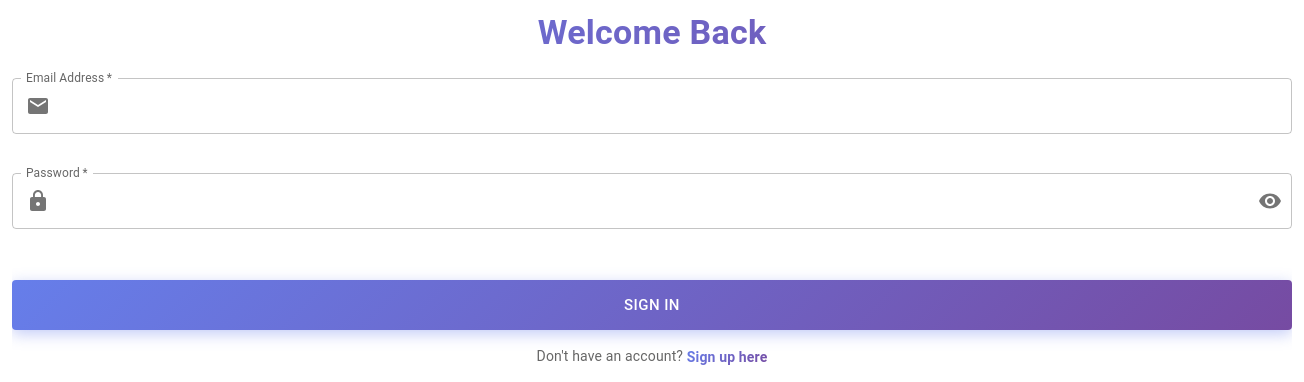
Test case: ModernLoginForm › Form Validation › should clear error when user starts typing
// Trigger error
Click the field labelled "Email Address *" at {"x": 675, "y": 106}, box [58, 78, 1292, 134]
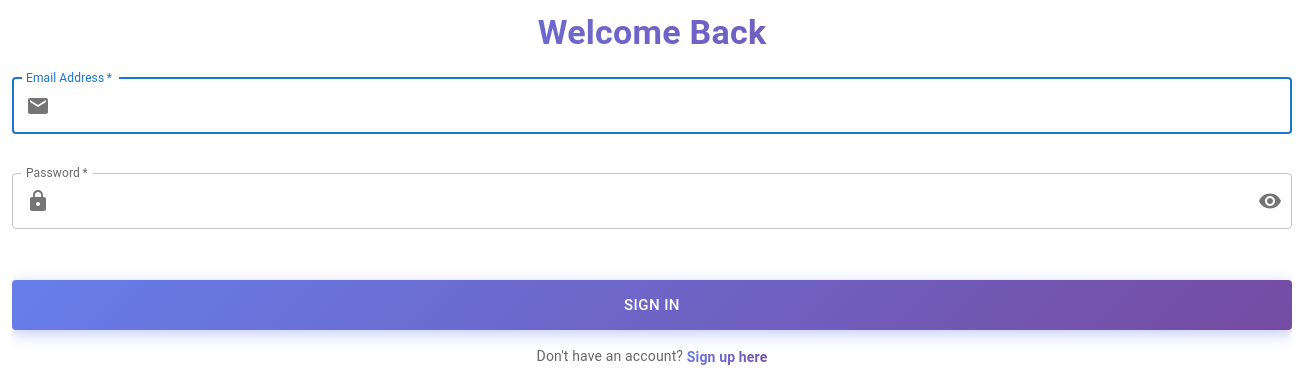
Press Tab
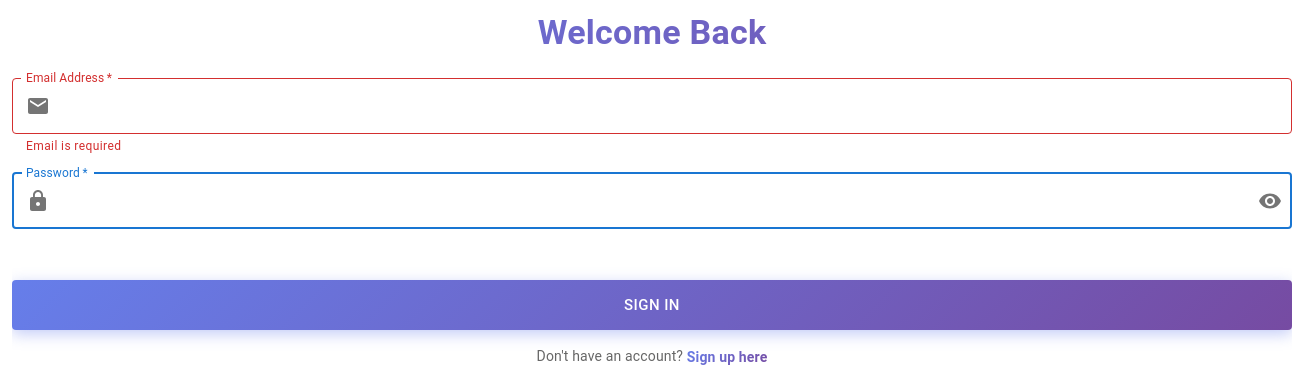
Expected: the text "Email is required" is shown, [26, 139, 121, 153]
// Start typing
Type "test@example.com" into the field labelled "Email Address *" at {"x": 675, "y": 106}, box [58, 78, 1292, 134]
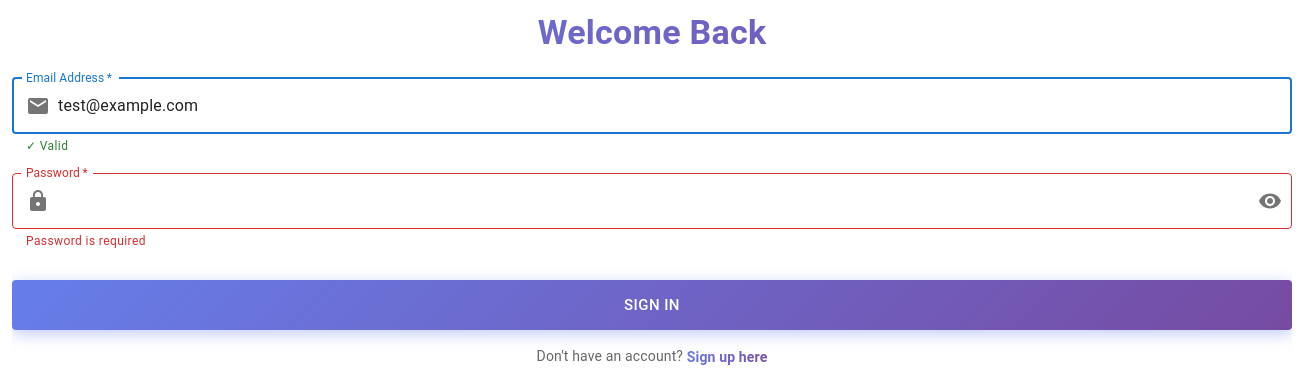
Expected: the text "Email is required" is gone
